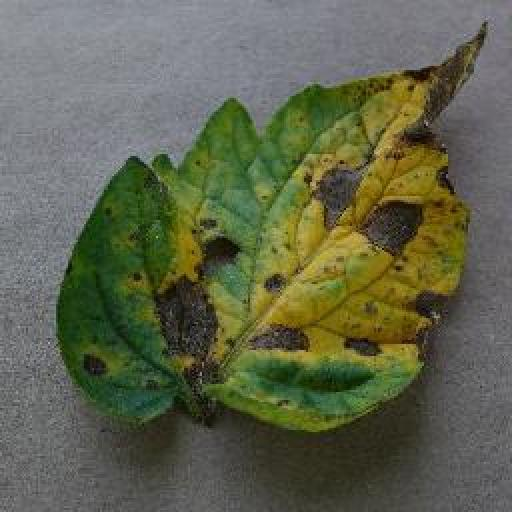Early Blight: (55, 22, 484, 430)
